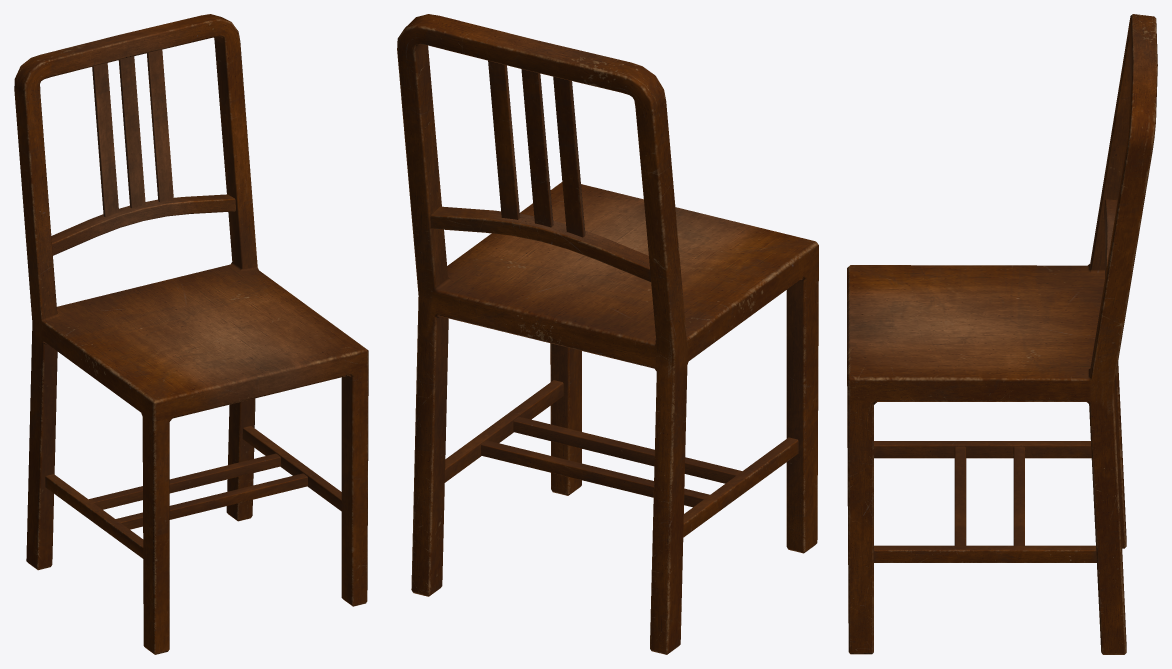
Rendered from old_wooden_chair_05_low-poly_pbr.glb.
3 renders of one model, left to right at view 1: azimuth 30°, elevation 25°; view 2: azimuth 150°, elevation 25°; view 3: azimuth 270°, elevation 25°, orthographic. The views are drawn at different scales.
Parts seen in each view (by area): view 1: old_chair; view 2: old_chair; view 3: old_chair.
Part boxes in pixels (bbox=[...]): old_chair: bbox=[14, 14, 368, 654]; old_chair: bbox=[397, 14, 818, 654]; old_chair: bbox=[847, 14, 1157, 654].
Bounding box in the file's own units: 0.4536 × 0.9905 × 0.5188.
Materials: 1 (1 with a texture image).
